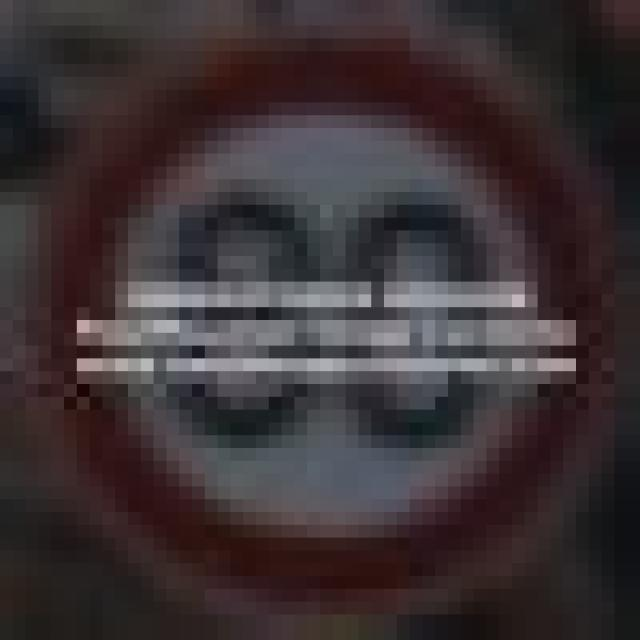speed_limit_50: (38, 38, 589, 576)
